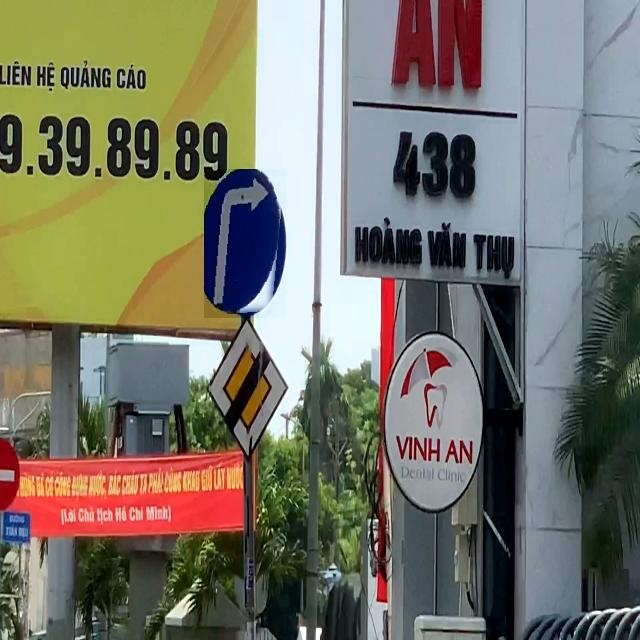bien_hieu_lenh: (204, 169, 286, 318)
